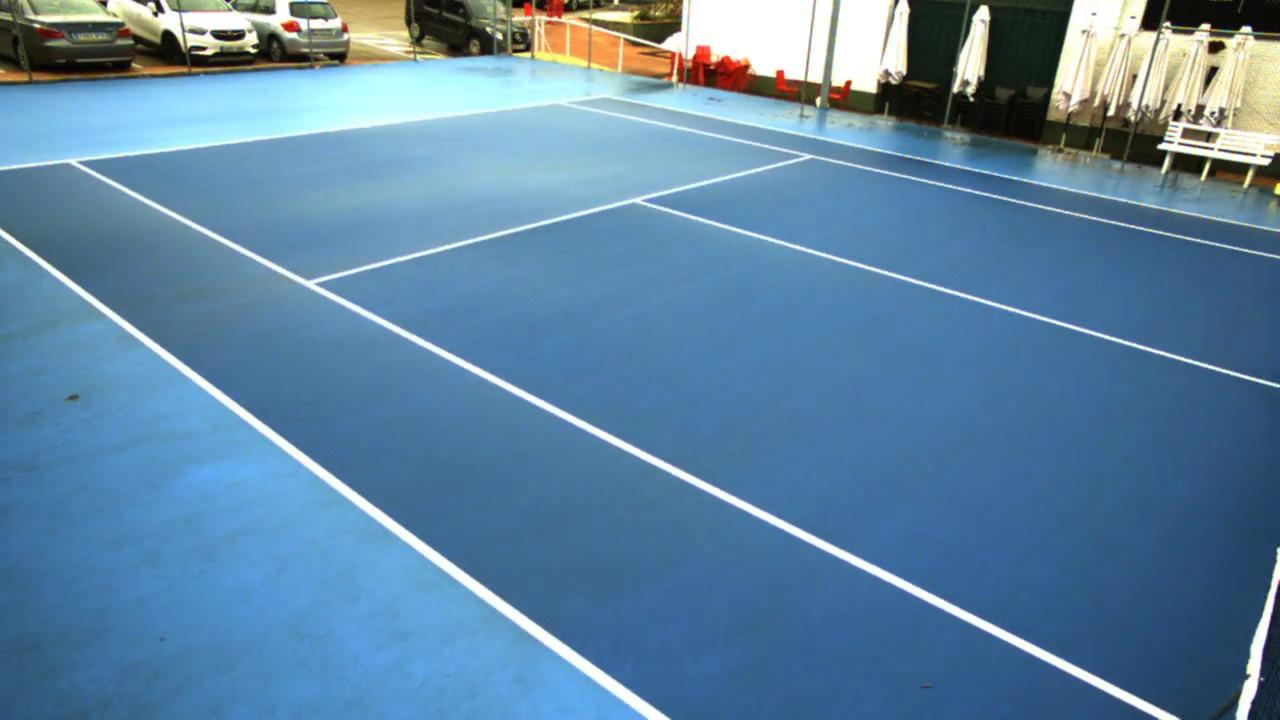cancha_tenis: (69, 101, 1272, 720)
point_f1: (58, 150, 96, 177)
point_f2: (547, 93, 573, 117)
point_fc1: (357, 119, 376, 139)
point_i1: (296, 271, 332, 297)
point_i2: (791, 144, 823, 169)
point_ic1: (621, 185, 656, 216)
